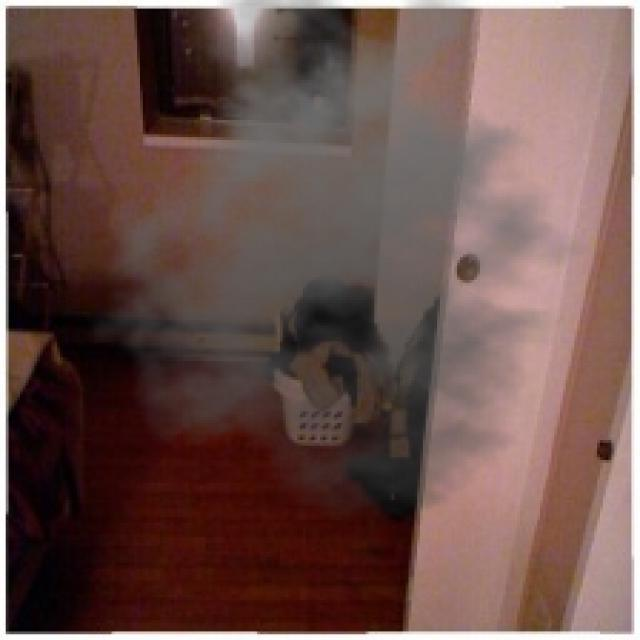Smoke: (86, 0, 612, 520)
